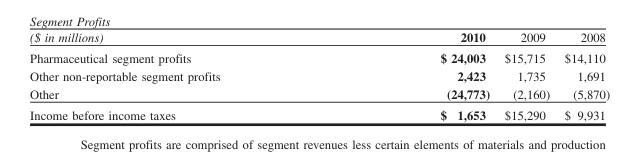table: (29, 29, 609, 122)
table column: (29, 29, 329, 122), (329, 29, 496, 122), (496, 29, 556, 122), (556, 29, 609, 122)
table column header: (29, 29, 609, 47)
table row: (29, 84, 609, 104), (29, 47, 609, 66), (29, 29, 609, 47), (29, 66, 609, 84), (29, 104, 609, 122)
